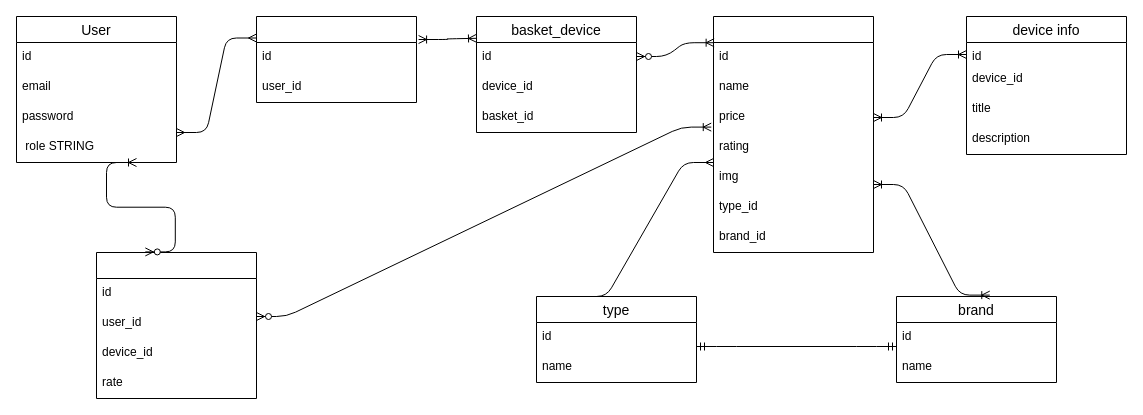
Image size: 1143x415. Some labels were removed from this diagram. Here are the shapes that lost their labels. From the top down, the box of each, then its label:
(256, 16, 416, 102): basket
(712, 16, 874, 252): device
(96, 252, 256, 398): raiting
